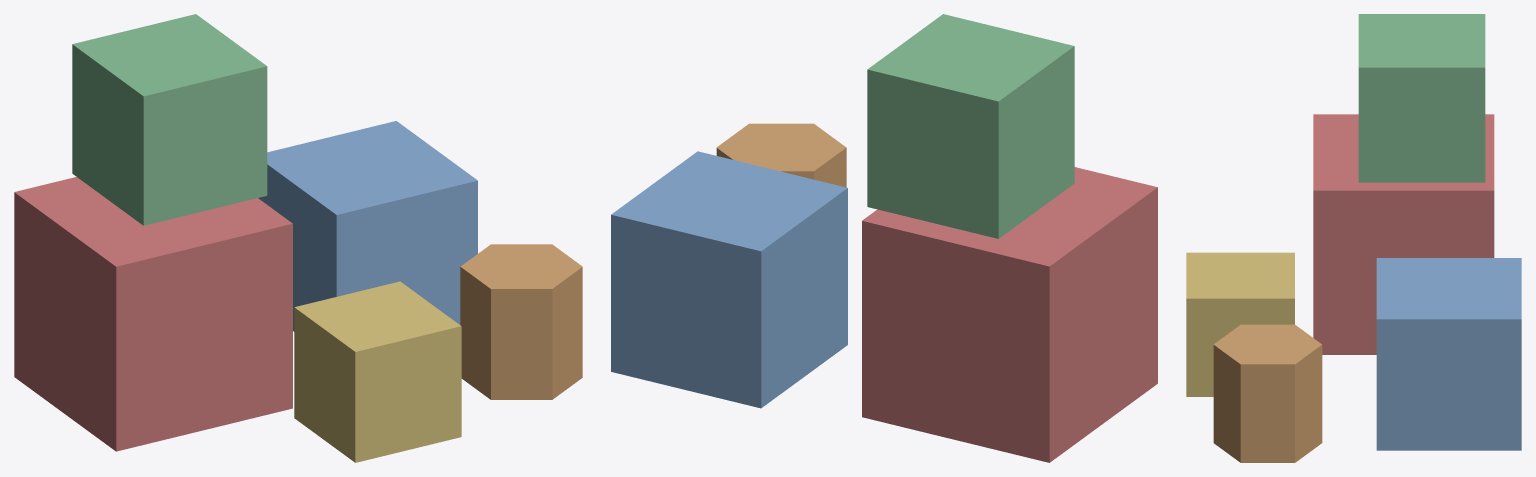
The model's file is kid_blocos2.glb.
The picture shows the model from 3 angles, left to right: view 1: azimuth 30°, elevation 25°; view 2: azimuth 150°, elevation 25°; view 3: azimuth 270°, elevation 25°; orthographic projection. The views are drawn at different scales.
Visible parts, largest first — view 1: KID_BLOCOS2_v01; view 2: KID_BLOCOS2_v01; view 3: KID_BLOCOS2_v01.
Part boxes in pixels (box(x1,y1,x2,y2)): KID_BLOCOS2_v01: box(14, 14, 582, 462); KID_BLOCOS2_v01: box(611, 14, 1157, 462); KID_BLOCOS2_v01: box(1186, 14, 1521, 462).
Size of the model in its own units: 0.482 by 0.35 by 0.37.
